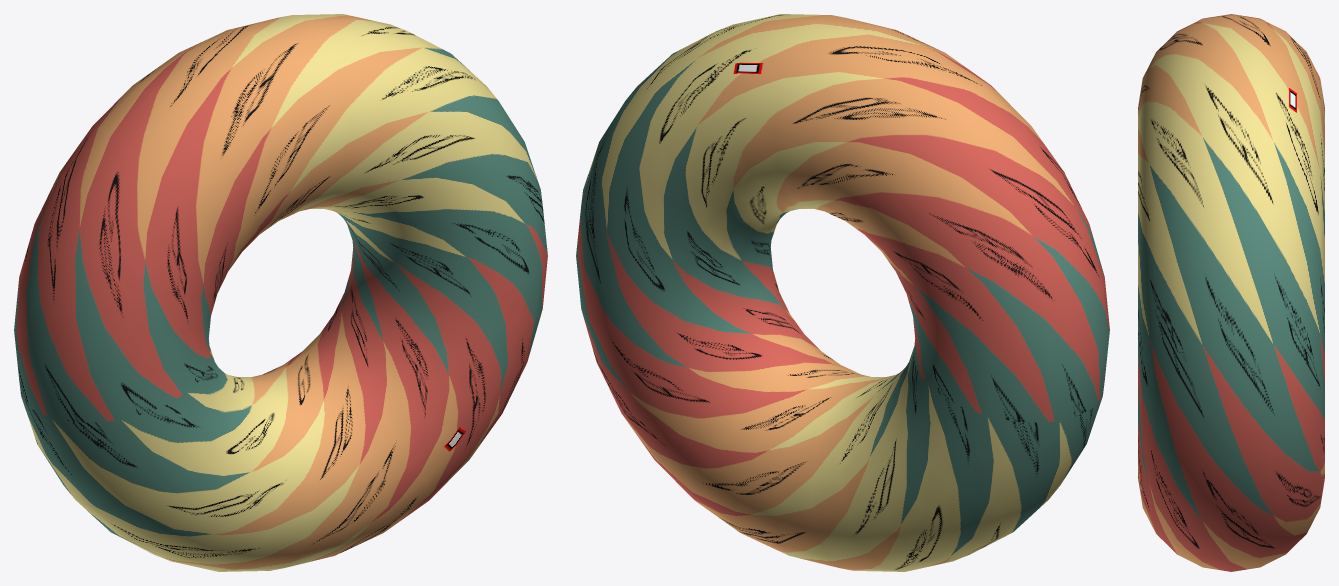
File: uv_checkerboard_res_1024_iter_385_cat_map.obj
The picture shows the model from 3 angles, left to right: view 1: azimuth 30°, elevation 25°; view 2: azimuth 150°, elevation 25°; view 3: azimuth 270°, elevation 25°; orthographic projection. The views are drawn at different scales.
Bounding box in the file's own units: 3 × 2.98 × 1.
